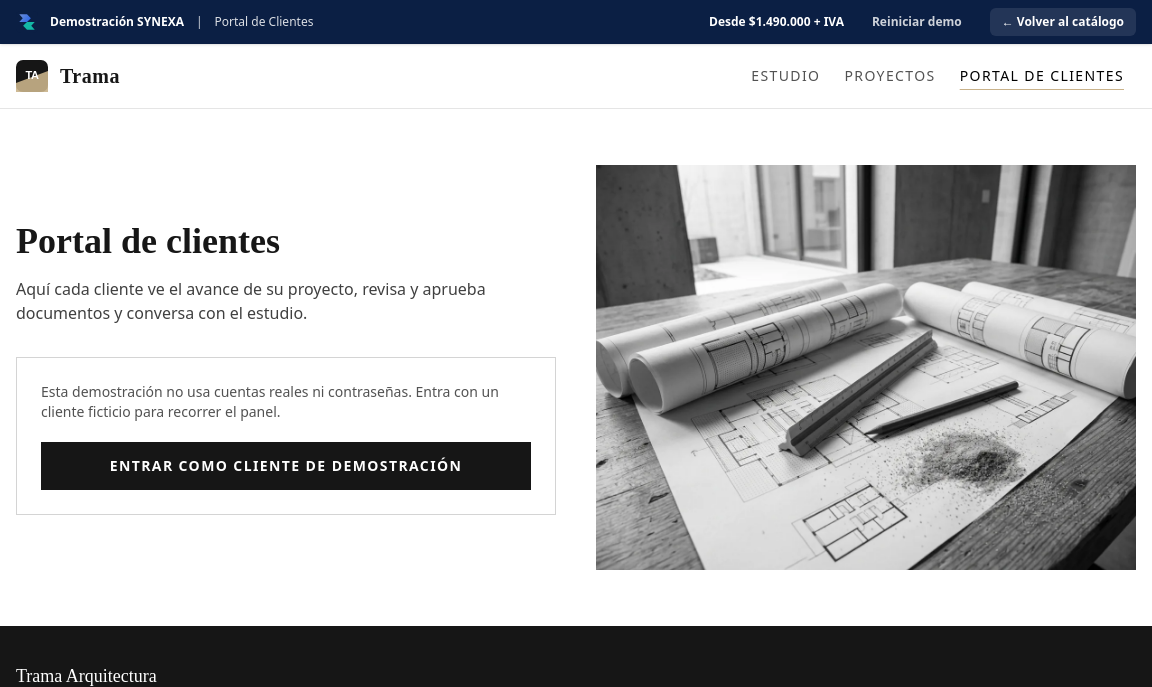
Test: demo Trama Arquitectura › entra, aprueba documentos y sale
The image size is (1152, 687).
Expected: the heading "Portal de clientes" is shown, [16,220,280,260]
Click the button "Entrar como cliente de demostración".
click(286, 466)  # box [41,442,531,490]
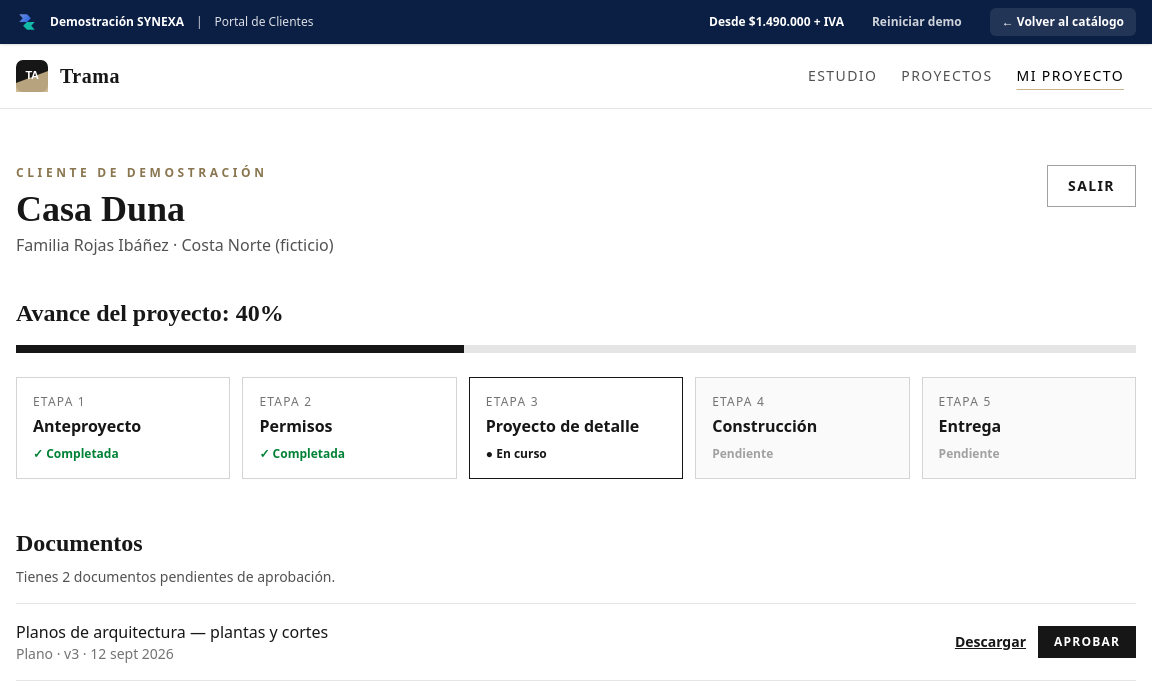
Now the heading "Casa Duna" is shown, box [16,189,185,229]
Now the heading "Avance del proyecto: 40%" is shown, box [16,300,284,326]
Now the text "Tienes 2 documentos pendientes de aprobación." is shown, box [16,567,335,586]
Click the button with aria-label "Aprobar Planos de arquitectura — plantas y cortes".
click(1087, 642)  # box [1038,626,1136,658]
(page scrolled)
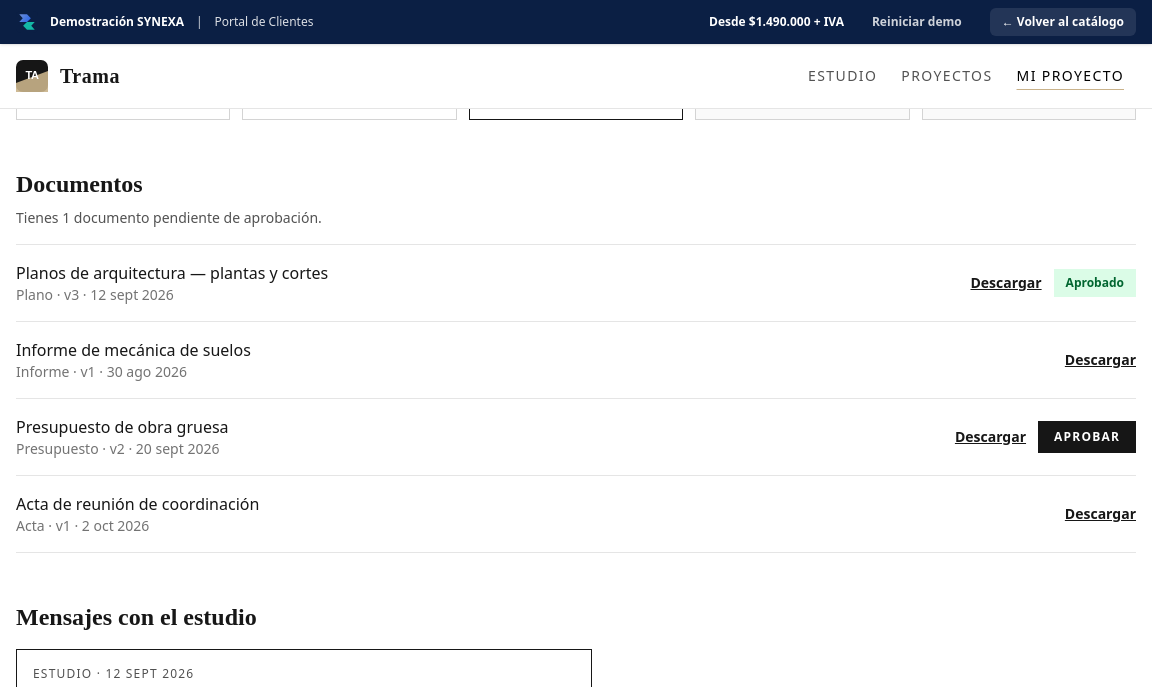
Now the text "Tienes 1 documento pendiente de aprobación." is shown, box [16,208,322,227]
Now the text "Aprobado" is shown, box [1054,269,1136,297]
Click the button with aria-label "Descargar Informe de mecánica de suelos".
click(1100, 360)  # box [1065,350,1136,370]
(page scrolled)
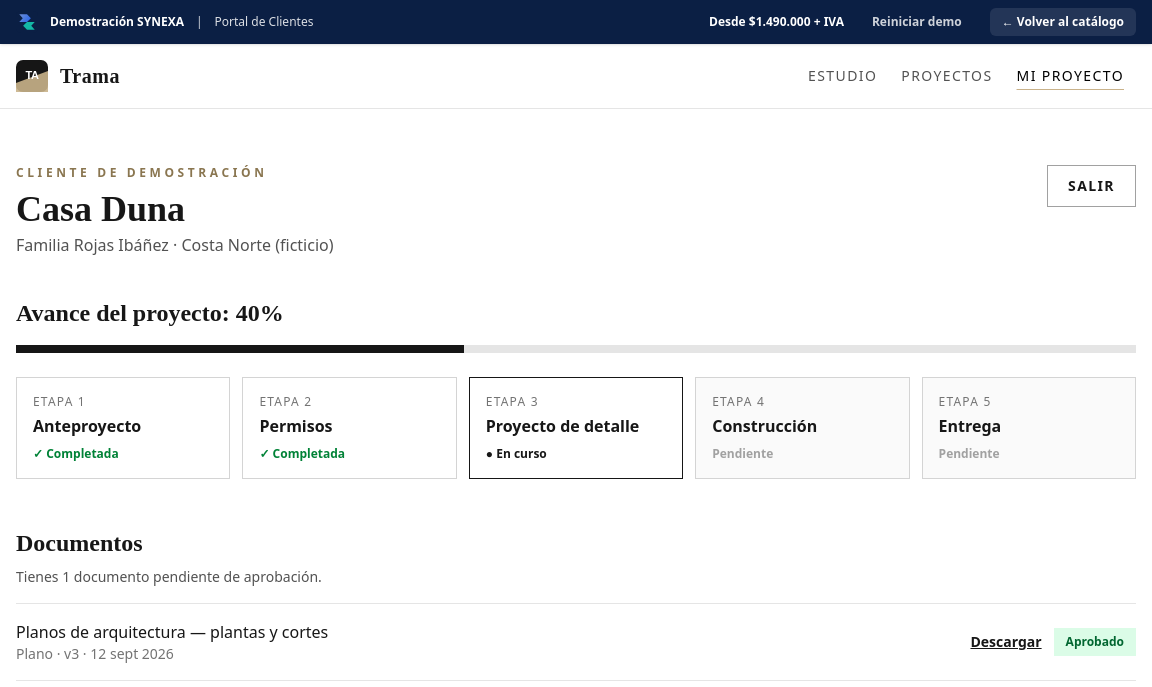
Click the button "Salir".
click(1092, 186)  # box [1047,165,1136,207]
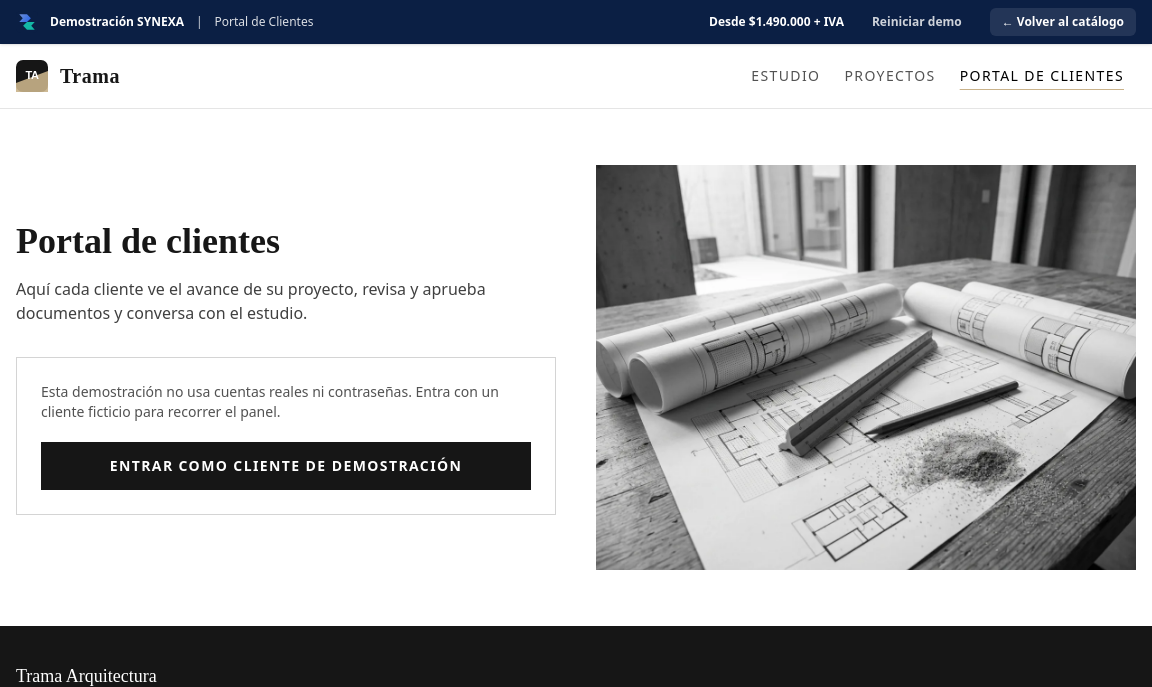
Now the heading "Portal de clientes" is shown, box [16,220,280,260]
